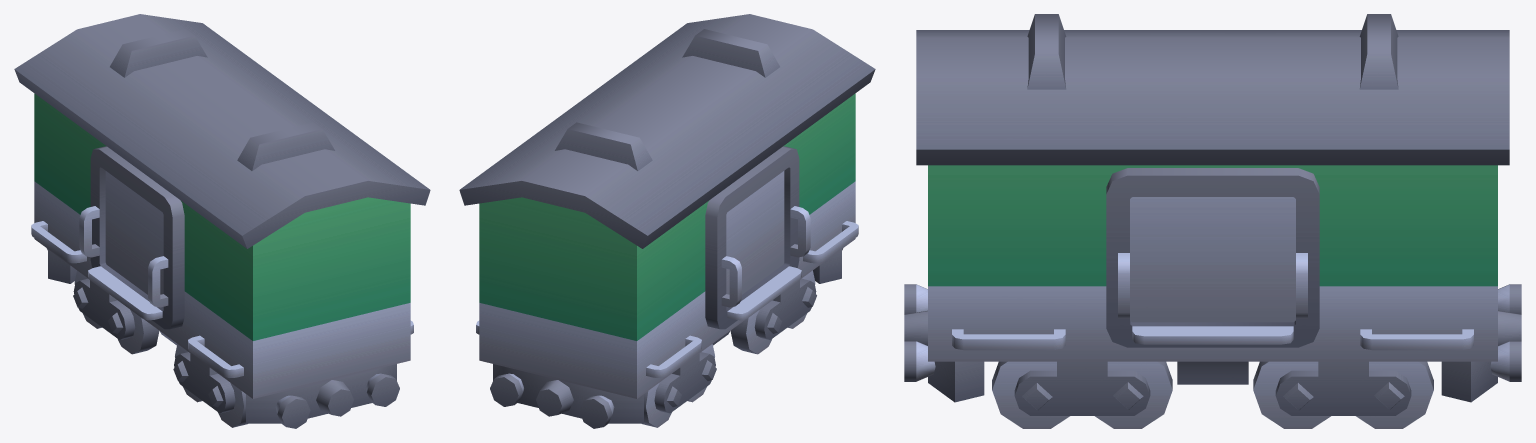
Rendered from train-diesel-box-c.glb.
3 views of the same model, side by side, from view 1: azimuth 30°, elevation 25°; view 2: azimuth 150°, elevation 25°; view 3: azimuth 270°, elevation 25° (orthographic). The views are drawn at different scales.
Parts seen in each view (by area): view 1: train-diesel-box-c; view 2: train-diesel-box-c; view 3: train-diesel-box-c.
Part boxes in pixels (bbox=[...]): train-diesel-box-c: bbox=[14, 14, 430, 428]; train-diesel-box-c: bbox=[459, 14, 875, 428]; train-diesel-box-c: bbox=[904, 14, 1521, 428].
Bounding box in the file's own units: 1.35 × 1.65 × 2.6.
1 material, 1 textured.
